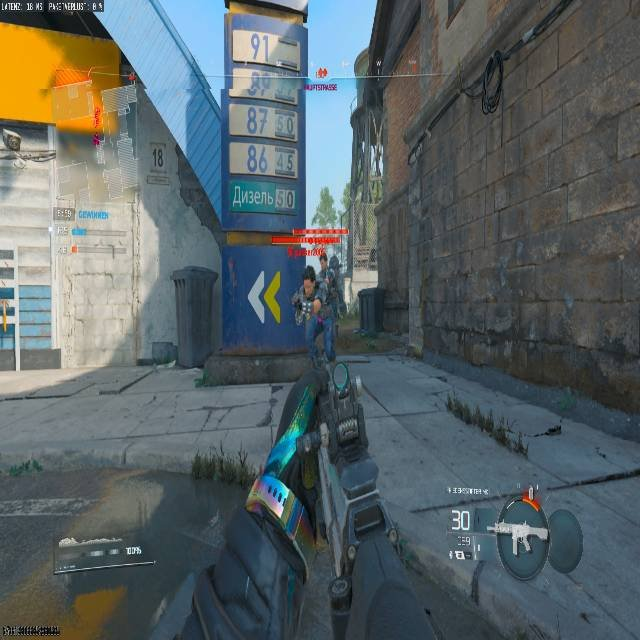head: (302, 265, 316, 285), (302, 258, 315, 277)
player: (292, 268, 330, 359), (291, 265, 320, 327)
